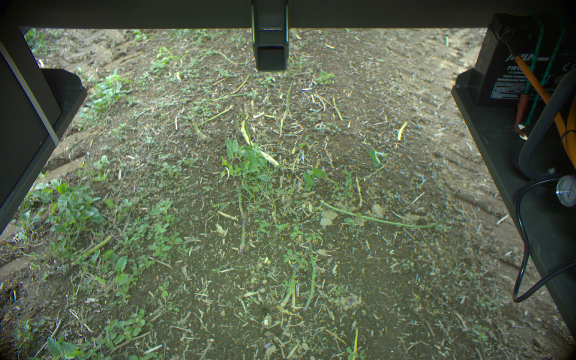aspa: (318, 194, 447, 234), (304, 240, 319, 313), (279, 262, 302, 307), (187, 111, 209, 143), (239, 101, 252, 146), (237, 213, 250, 254), (235, 174, 247, 211), (349, 324, 361, 360), (282, 81, 293, 119), (232, 113, 243, 142)
